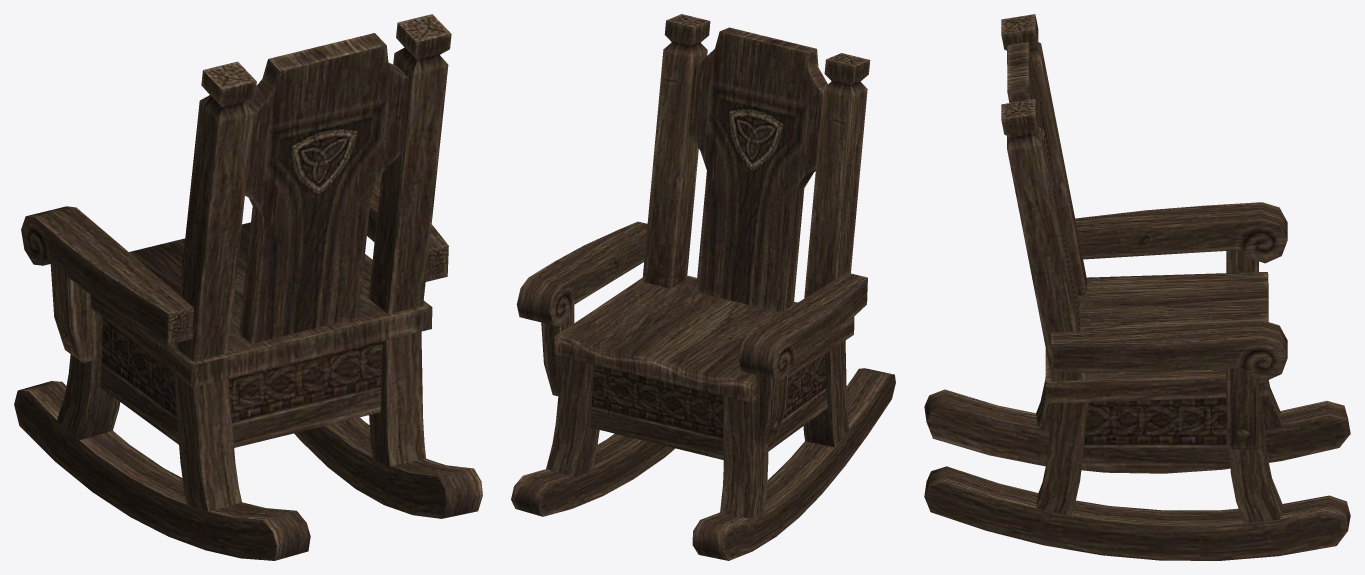
The model's file is eso_gu2_woodfurniture3-transformed.glb.
The picture shows the model from 3 angles, left to right: view 1: azimuth 30°, elevation 25°; view 2: azimuth 150°, elevation 25°; view 3: azimuth 270°, elevation 25°; orthographic projection. The views are drawn at different scales.
Visible parts, largest first — view 1: default; view 2: default; view 3: default.
Part boxes in pixels (x1,y1,x2,y2): default: [14, 14, 482, 560]; default: [511, 14, 895, 560]; default: [924, 14, 1350, 560].
Bounding box in the file's own units: 0.9482 × 1.45 × 1.26.
1 material, 1 textured.
